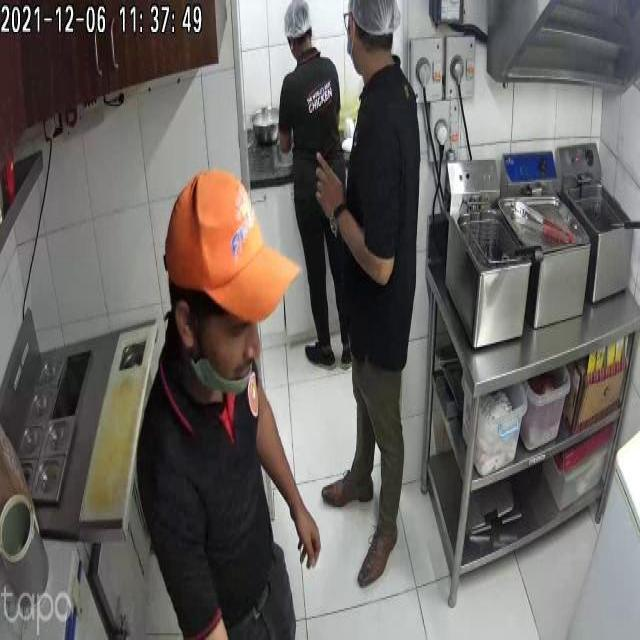bare_hand: (306, 140, 353, 236), (279, 490, 326, 571)
